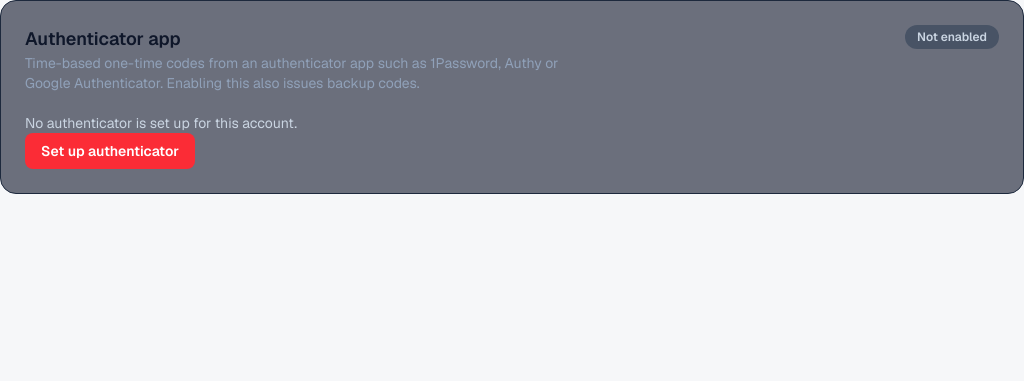
TotpEnrollmentCard › shows the secret and QR code after starting enrollment
Step 1. Click the button "Set up authenticator" → (110, 151), box [25, 133, 195, 169]
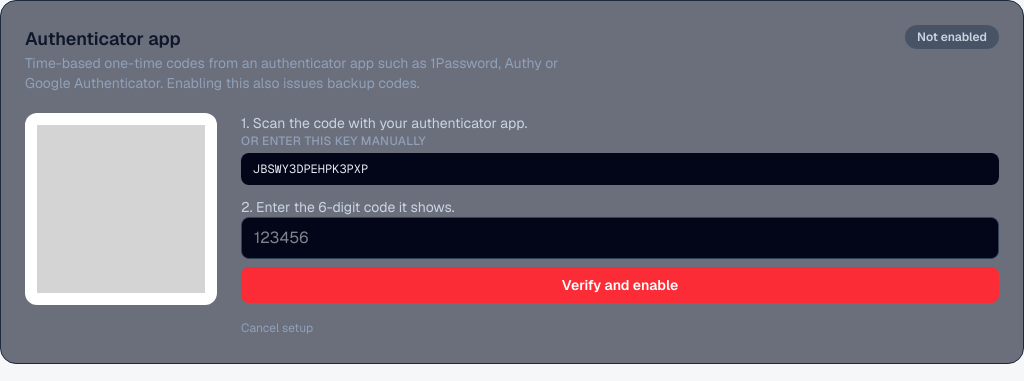
Check: the text "JBSWY3DPEHPK3PXP" is shown, box [241, 153, 999, 185]
